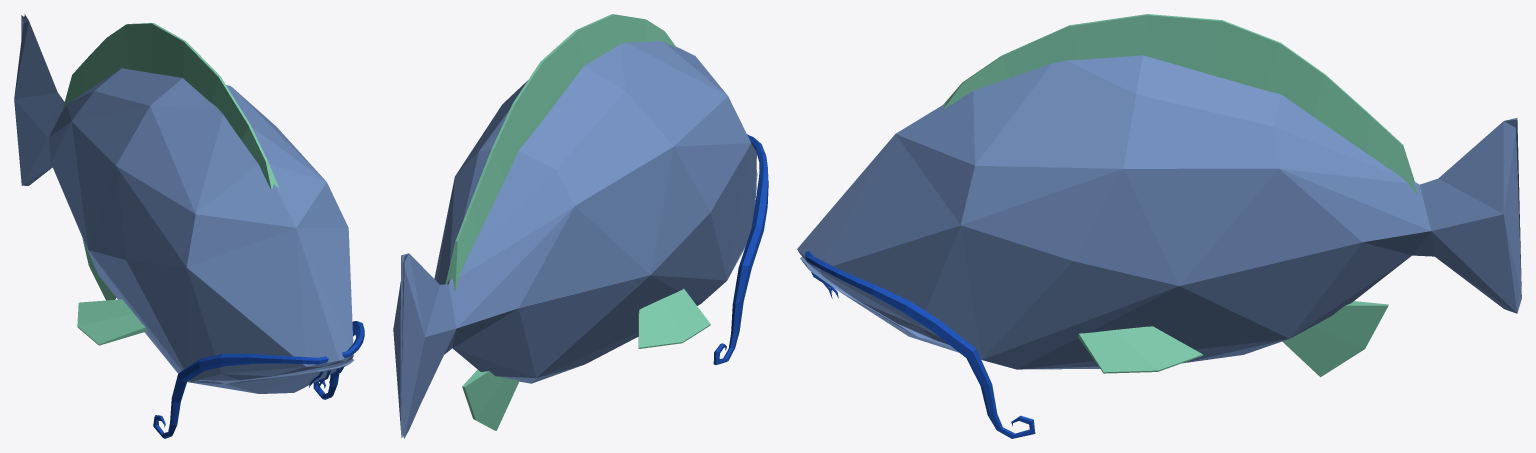
File: fish01.fbx
3 renders of one model, left to right at view 1: azimuth 30°, elevation 25°; view 2: azimuth 150°, elevation 25°; view 3: azimuth 270°, elevation 25°, orthographic. The views are drawn at different scales.
Parts seen in each view (by area): view 1: fish01_lvl1, fish01_lvl2, fish01_lvl3; view 2: fish01_lvl1, fish01_lvl2, fish01_lvl3; view 3: fish01_lvl1, fish01_lvl2, fish01_lvl3.
Part boxes in pixels (bbox=[...]): fish01_lvl1: bbox=[14, 14, 354, 393]; fish01_lvl2: bbox=[62, 23, 278, 345]; fish01_lvl3: bbox=[153, 321, 364, 438]; fish01_lvl1: bbox=[393, 41, 757, 438]; fish01_lvl2: bbox=[445, 14, 710, 430]; fish01_lvl3: bbox=[713, 134, 768, 364]; fish01_lvl1: bbox=[797, 55, 1521, 369]; fish01_lvl2: bbox=[943, 14, 1417, 377]; fish01_lvl3: bbox=[805, 251, 1035, 438].
Size of the model in its own units: 232 by 349 by 603.
